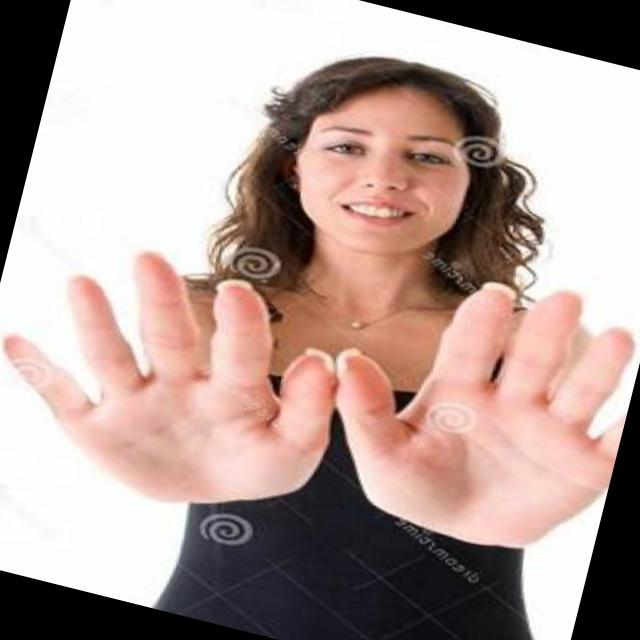not-gloved: (267, 210, 640, 604), (0, 187, 353, 564)
